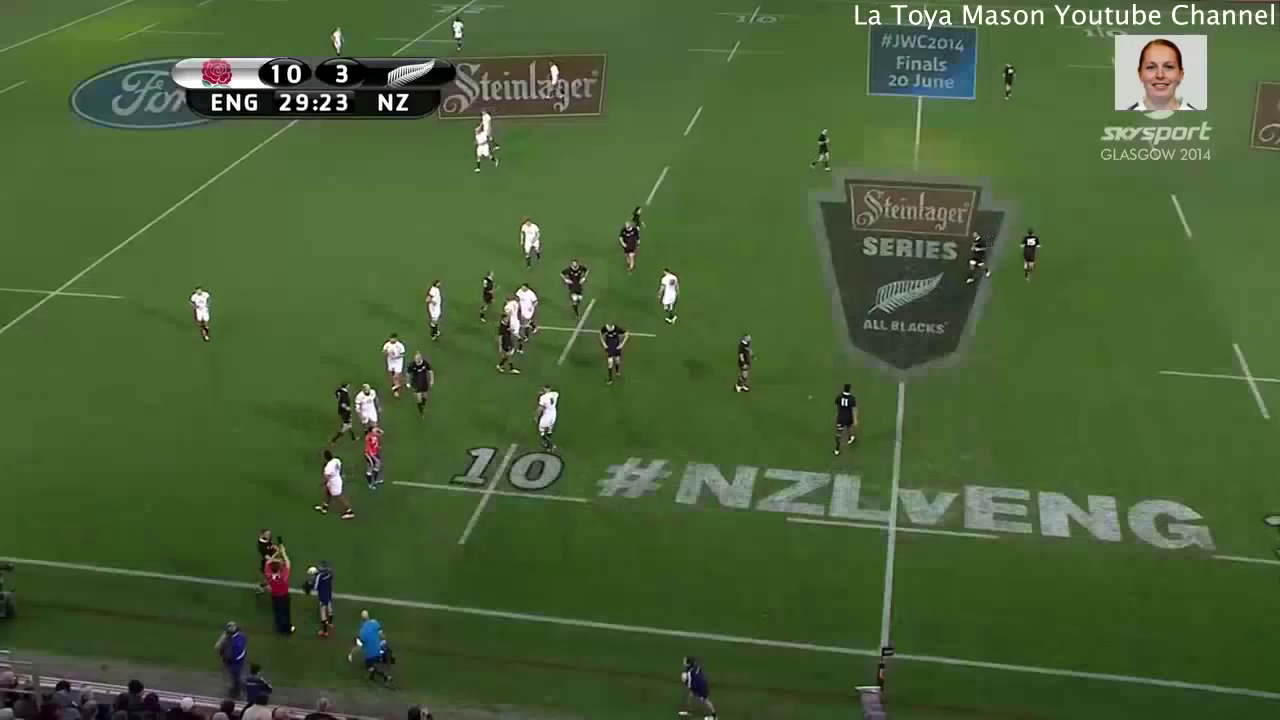10_metre: (379, 436, 596, 556), (474, 293, 659, 376), (679, 37, 793, 73), (712, 3, 801, 32)
player: (306, 438, 362, 528), (180, 273, 226, 356), (822, 381, 866, 460), (401, 349, 444, 428), (324, 368, 362, 451), (556, 254, 597, 330), (594, 314, 634, 391), (530, 378, 565, 465), (645, 262, 687, 332), (487, 307, 527, 377), (241, 519, 282, 587), (377, 325, 412, 403), (498, 293, 536, 364), (958, 226, 997, 294), (356, 420, 391, 495), (726, 329, 763, 399), (511, 281, 552, 344), (511, 213, 549, 274), (416, 274, 448, 346), (349, 379, 388, 436), (465, 121, 503, 179), (612, 218, 648, 278), (1015, 222, 1047, 289), (469, 265, 499, 328), (804, 123, 837, 178), (474, 107, 509, 155), (994, 56, 1020, 107), (445, 10, 471, 59), (323, 22, 352, 62), (626, 199, 648, 239), (543, 56, 566, 94)
